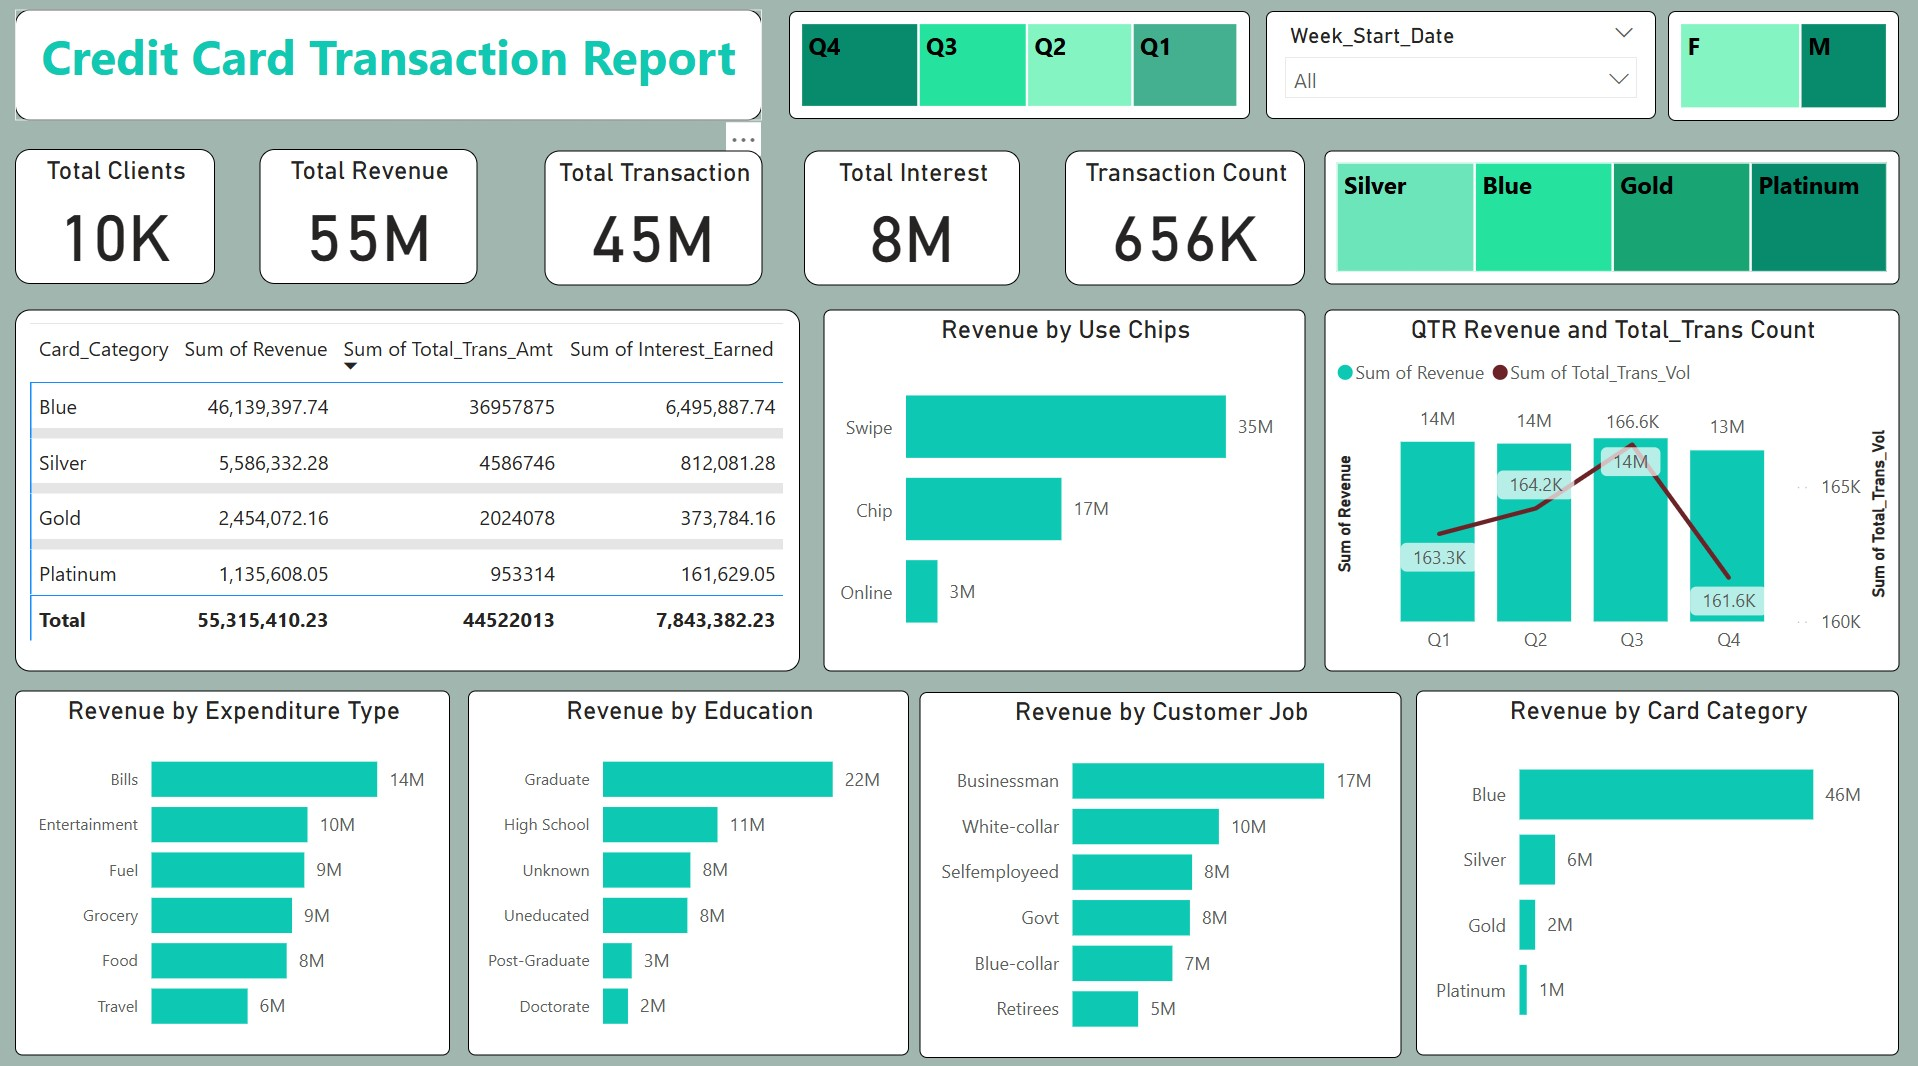

What the dashboard file says about the page in this screenshot:
{"tool":"powerbi","page":{"name":"Page 2","canvas":[1280,720],"ordinal":0},"visuals":[{"type":"textbox","box":[10,6.7,497.8,74.4],"z":0},{"type":"lineStackedColumnComboChart","title":"QTR Revenue and Total_Trans Count","fields":{"Category":["credit_card.Qtr"],"Y":["Sum(credit_card.Revenue)"],"Y2":["Sum(credit_card.Total_Trans_Vol)"]},"box":[883.3,206.7,382.2,241.1],"z":1000},{"type":"barChart","title":"Revenue by Expenditure Type","fields":{"Y":["Sum(credit_card.Revenue)"],"Category":["credit_card.Exp Type"]},"box":[10,461.1,290,243.3],"z":2000},{"type":"barChart","title":"Revenue by Education ","fields":{"Category":["customer.Education_Level"],"Y":["Sum(credit_card.Revenue)"]},"box":[312.2,461.1,293.3,243.3],"z":3000},{"type":"barChart","title":"Revenue by Customer Job","fields":{"Category":["customer.Customer_Job"],"Y":["Sum(credit_card.Revenue)"]},"box":[613.3,462.2,321.1,243.3],"z":4000},{"type":"barChart","title":"Revenue by Card Category","fields":{"Y":["Sum(credit_card.Revenue)"],"Category":["credit_card.Card_Category"]},"box":[944.4,461.1,321.1,243.3],"z":5000},{"type":"barChart","title":"Revenue by Use Chips","fields":{"Y":["Sum(credit_card.Revenue)"],"Category":["credit_card.Use Chip"]},"box":[548.9,206.7,321.1,241.1],"z":6000},{"type":"tableEx","fields":{"Values":["credit_card.Card_Category","Sum(credit_card.Revenue)","Sum(credit_card.Total_Trans_Amt)","Sum(credit_card.Interest_Earned)"]},"box":[10,206.7,523.3,241.1],"z":7000},{"type":"card","title":"Total Revenue","fields":{"Values":["Sum(credit_card.Revenue)"]},"box":[173,100,145,90],"z":8000},{"type":"card","title":"Total Clients","fields":{"Values":["CountNonNull(credit_card.Client_Num)"]},"box":[10,100,133,90],"z":9000},{"type":"card","title":"Total Transaction","fields":{"Values":["Sum(credit_card.Total_Trans_Amt)"]},"box":[363.3,101.1,144.4,90],"z":10000},{"type":"card","title":"Total Interest","fields":{"Values":["Sum(credit_card.Interest_Earned)"]},"box":[535.6,101.1,144.4,90],"z":11000},{"type":"card","title":"Transaction Count","fields":{"Values":["Sum(credit_card.Total_Trans_Vol)"]},"box":[710,101.1,160,90],"z":12000},{"type":"slicer","fields":{"Values":["credit_card.Week_Start_Date"]},"box":[844.4,7.8,260,72.2],"z":13000},{"type":"treemap","fields":{"Group":["credit_card.Qtr"],"Values":["Avg(credit_card.Client_Num)"]},"box":[525.6,7.8,307.8,72.2],"z":14000},{"type":"treemap","fields":{"Group":["customer.Gender"],"Values":["CountNonNull(credit_card.Client_Num)"]},"box":[1112.2,7.8,153.3,73.3],"z":15000},{"type":"treemap","fields":{"Group":["credit_card.Card_Category"],"Values":["Avg(credit_card.Client_Num)"]},"box":[883.3,101.1,382.2,88.9],"z":16000}]}

Visuals, with their boxes in screenshot pixels (x1, y1, x2, y2), scaled from the page's 1280x720 canvas onto the 1918x1066 screenshot:
textbox: box(15, 10, 761, 120)
"QTR Revenue and Total_Trans Count" lineStackedColumnComboChart: box(1324, 306, 1896, 663)
"Revenue by Expenditure Type" barChart: box(15, 683, 450, 1043)
"Revenue by Education " barChart: box(468, 683, 907, 1043)
"Revenue by Customer Job" barChart: box(919, 684, 1400, 1045)
"Revenue by Card Category" barChart: box(1415, 683, 1896, 1043)
"Revenue by Use Chips" barChart: box(822, 306, 1304, 663)
tableEx - credit_card.Card_Category x Sum(credit_card.Revenue): box(15, 306, 799, 663)
"Total Revenue" card: box(259, 148, 477, 281)
"Total Clients" card: box(15, 148, 214, 281)
"Total Transaction" card: box(544, 150, 761, 283)
"Total Interest" card: box(803, 150, 1019, 283)
"Transaction Count" card: box(1064, 150, 1304, 283)
slicer - credit_card.Week_Start_Date: box(1265, 12, 1655, 118)
treemap - credit_card.Qtr x Avg(credit_card.Client_Num): box(788, 12, 1249, 118)
treemap - customer.Gender x CountNonNull(credit_card.Client_Num): box(1667, 12, 1896, 120)
treemap - credit_card.Card_Category x Avg(credit_card.Client_Num): box(1324, 150, 1896, 281)
